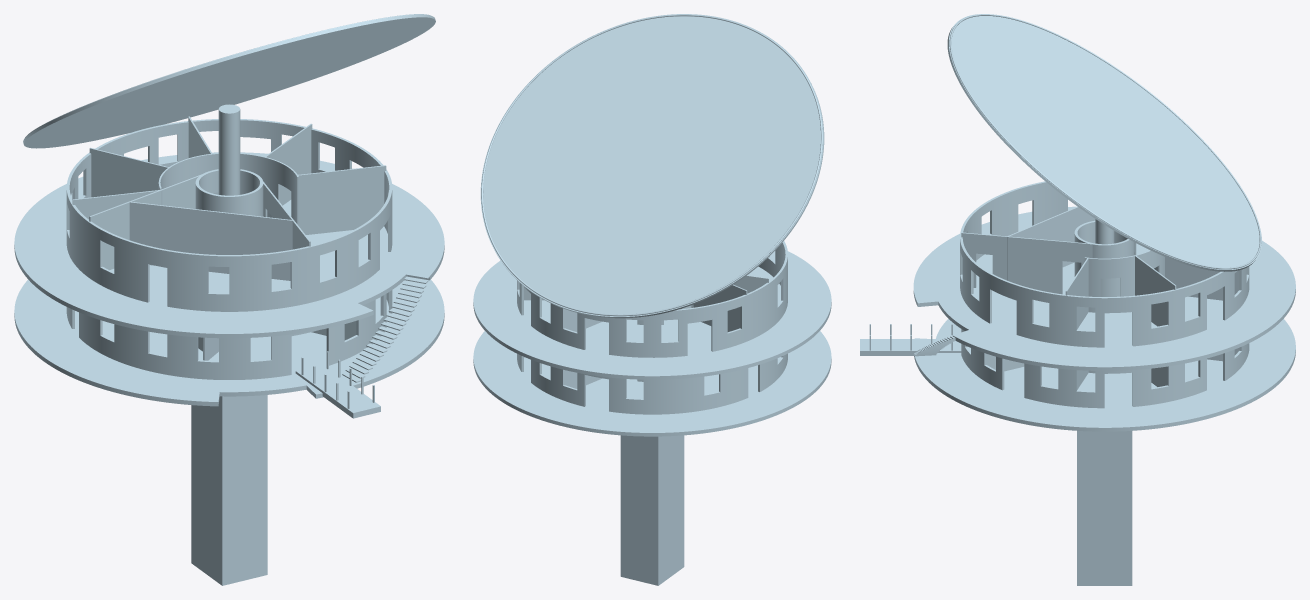
Rendered from tower.glb.
3 renders of one model, left to right at view 1: azimuth 30°, elevation 25°; view 2: azimuth 150°, elevation 25°; view 3: azimuth 270°, elevation 25°, orthographic. The views are drawn at different scales.
Parts seen in each view (by area): view 1: Facade 1, Slab 1, Slab 0, Solar disc, Pod container, Radial demise wall (×5), Facade 0, Bedroom-bath wall, Corridor wall 1, Core tangent wall, Elevator shell 1, Hatch column (+2 smaller); view 2: Solar disc, Slab 1, Slab 0, Pod container, Facade 1, Facade 0, Solar rim, Radial demise wall; view 3: Solar disc, Slab 1, Slab 0, Facade 1, Pod container, Facade 0, Living-bedroom separator, Radial demise wall (×3), Corridor wall 1, Solar rim, Elevator shell 1, Bedroom-bath wall (+1 smaller).
Part boxes in pixels (<box>): Facade 1: <box>66,119,392,311</box>; Slab 1: <box>14,152,444,338</box>; Slab 0: <box>14,277,444,406</box>; Solar disc: <box>23,15,435,148</box>; Pod container: <box>191,395,267,585</box>; Radial demise wall (×5): <box>72,116,386,234</box>; Facade 0: <box>66,290,392,379</box>; Bedroom-bath wall: <box>129,201,293,280</box>; Corridor wall 1: <box>158,153,298,225</box>; Core tangent wall: <box>89,174,201,270</box>; Elevator shell 1: <box>195,169,263,216</box>; Hatch column: <box>218,104,240,195</box>; Solar disc: <box>480,14,824,318</box>; Slab 1: <box>473,251,831,379</box>; Slab 0: <box>473,331,831,436</box>; Pod container: <box>620,435,684,585</box>; Facade 1: <box>517,241,787,357</box>; Facade 0: <box>517,353,787,414</box>; Solar rim: <box>481,14,822,316</box>; Radial demise wall: <box>693,284,747,331</box>; Solar disc: <box>947,14,1261,271</box>; Slab 1: <box>913,206,1295,370</box>; Slab 0: <box>914,319,1295,431</box>; Facade 1: <box>960,181,1249,347</box>; Pod container: <box>1077,431,1132,585</box>; Facade 0: <box>961,329,1249,408</box>; Living-bedroom separator: <box>992,235,1062,294</box>; Radial demise wall (×3): <box>1065,255,1239,329</box>; Corridor wall 1: <box>1084,243,1164,312</box>; Solar rim: <box>949,14,1261,269</box>; Elevator shell 1: <box>1074,220,1134,296</box>; Bedroom-bath wall: <box>1007,206,1095,280</box>.
Bounding box in the file's own units: 20 × 30.8 × 22.8.
